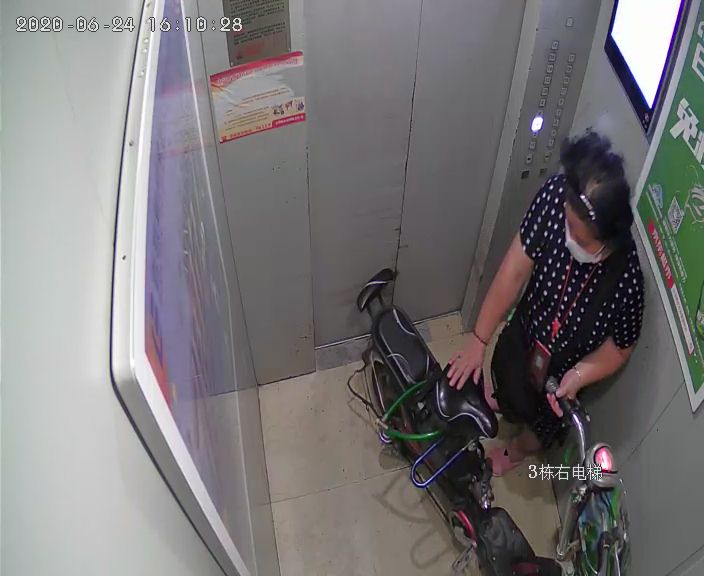Electric-bicycle: (354, 275, 629, 565)
